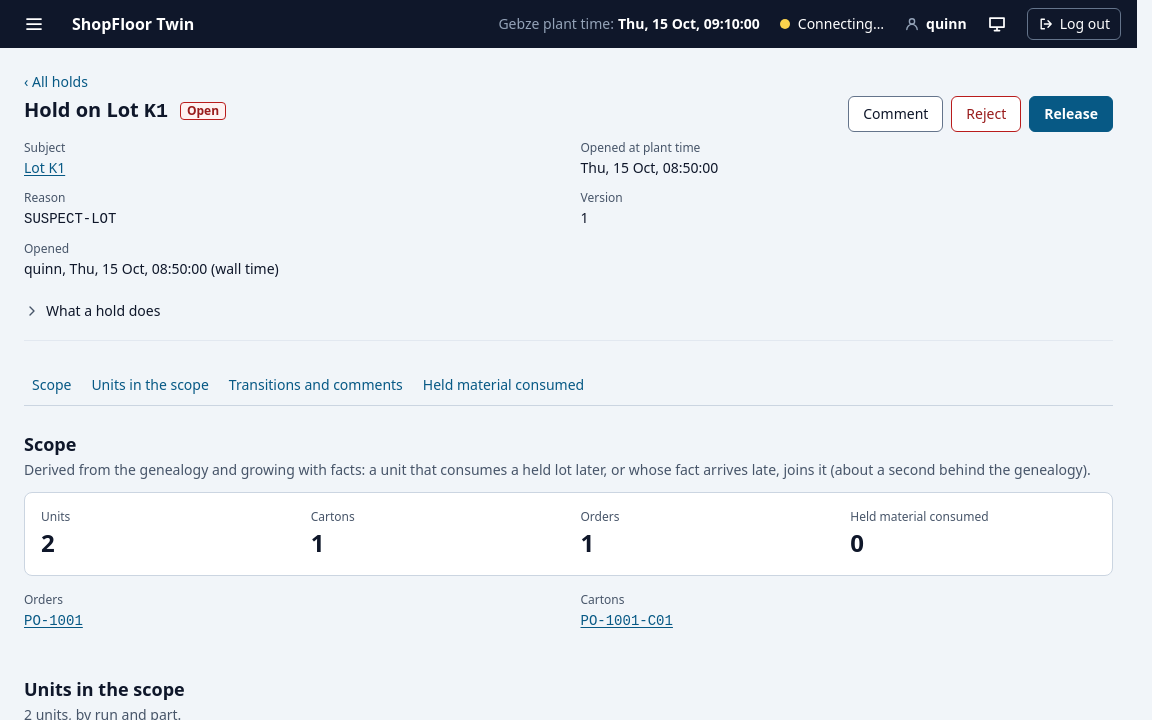
Test case: a hold’s detail › shows a decision refused because the hold was decided meanwhile, and reads it again
Click the button with test id "hold-action-reject".
click(986, 114)  # box [951, 96, 1021, 132]
(page scrolled)
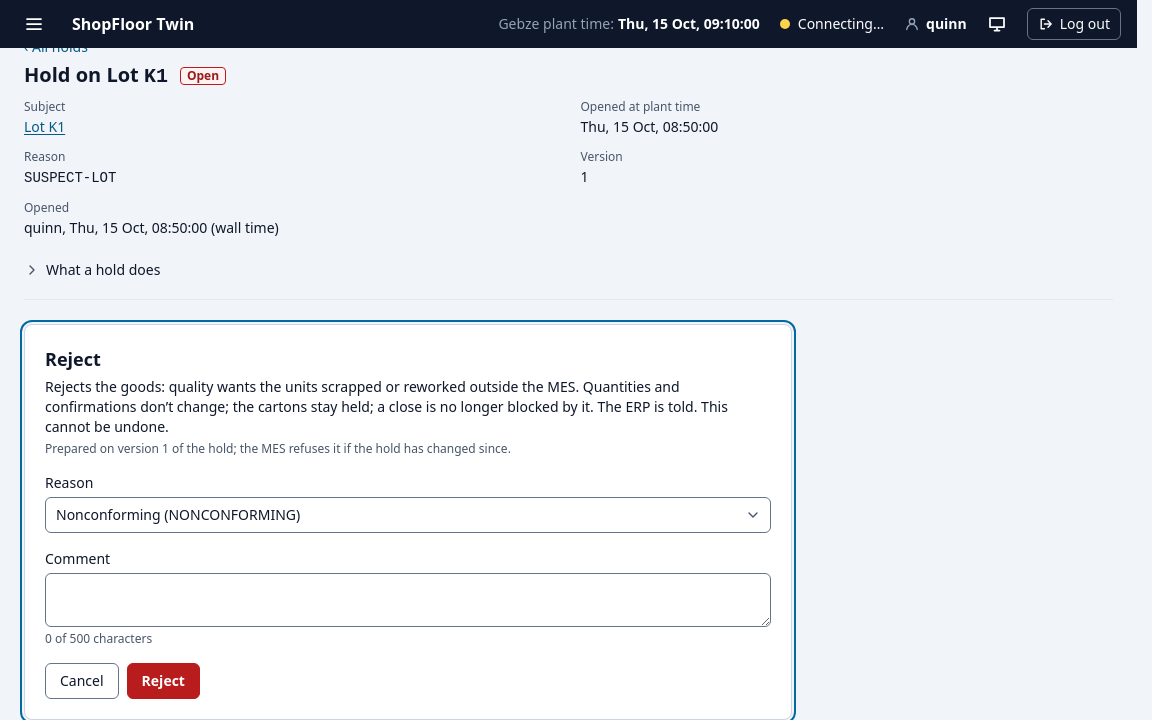
Click the button with test id "hold-submit".
click(163, 681)  # box [127, 663, 200, 699]
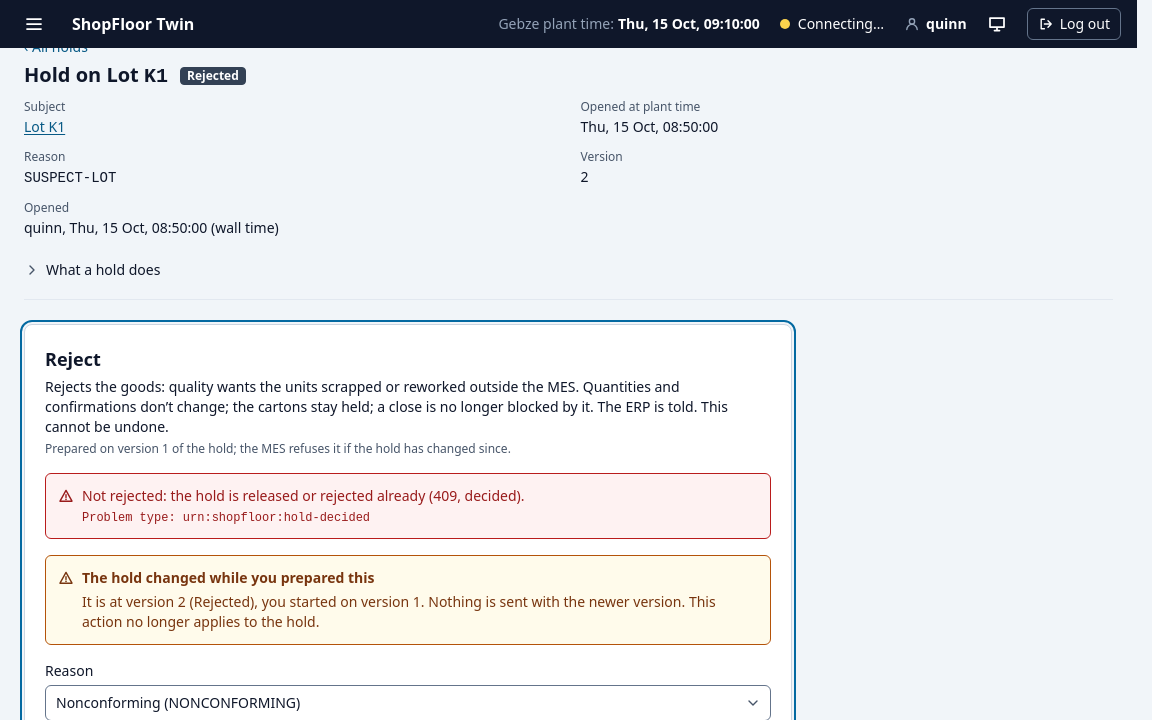
expect the message with test id "hold-stale" is shown: met, box [45, 555, 771, 645]
